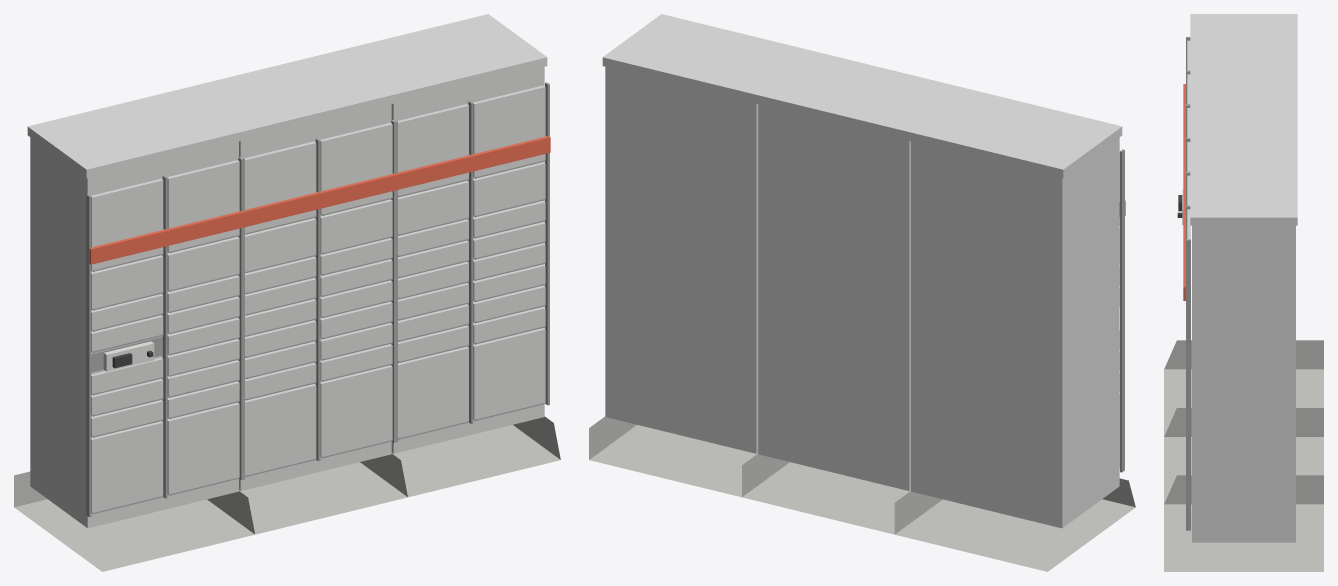
File: sockel_3.glb
3 renders of one model, left to right at view 1: azimuth 30°, elevation 25°; view 2: azimuth 150°, elevation 25°; view 3: azimuth 270°, elevation 25°, orthographic. The views are drawn at different scales.
Visible parts, largest first — view 1: Body_0, Top_0, Top_2, Top_1, Sockel_0, RedBand, Sockel_2, Sockel_1, Door_1_0, Door_5_0, Door_0_0, Door_3_0 (+59 smaller); view 2: Body_0, Body_2, Body_1, Top_0, Top_2, Top_1, Sockel_0, Sockel_1, Sockel_2, Frame_-1.5; view 3: Body_2, Top_2, Sockel_2, Top_1, Top_0, Sockel_0, Sockel_1, Frame_1.5, RedBand.
Part boxes in pixels (x1,y1,x2,y2): Body_0: (30, 137, 238, 528); Top_0: (27, 89, 241, 178); Top_2: (333, 14, 547, 103); Top_1: (180, 52, 394, 140); Sockel_0: (14, 471, 254, 571); RedBand: (89, 136, 550, 264); Sockel_2: (391, 416, 560, 497); Sockel_1: (239, 454, 407, 534); Door_1_0: (167, 402, 239, 494); Door_5_0: (473, 328, 545, 420); Door_0_0: (91, 421, 163, 513); Door_3_0: (320, 365, 392, 457); Body_0: (911, 137, 1119, 528); Body_2: (605, 67, 758, 453); Body_1: (758, 104, 910, 490); Top_0: (908, 89, 1122, 178); Top_2: (602, 14, 816, 102); Top_1: (755, 52, 969, 140); Sockel_0: (894, 478, 1135, 571); Sockel_1: (742, 454, 910, 534); Sockel_2: (589, 416, 758, 497); Frame_-1.5: (1120, 149, 1124, 472); Body_2: (1192, 225, 1295, 542); Top_2: (1190, 150, 1297, 225); Sockel_2: (1164, 475, 1323, 571); Top_1: (1190, 81, 1297, 149); Top_0: (1190, 14, 1297, 81); Sockel_0: (1164, 340, 1323, 436); Sockel_1: (1164, 408, 1323, 503); Frame_1.5: (1186, 239, 1190, 530); RedBand: (1183, 84, 1185, 300).
Bounding box in the file's own units: 3.02 × 2.45 × 1.
